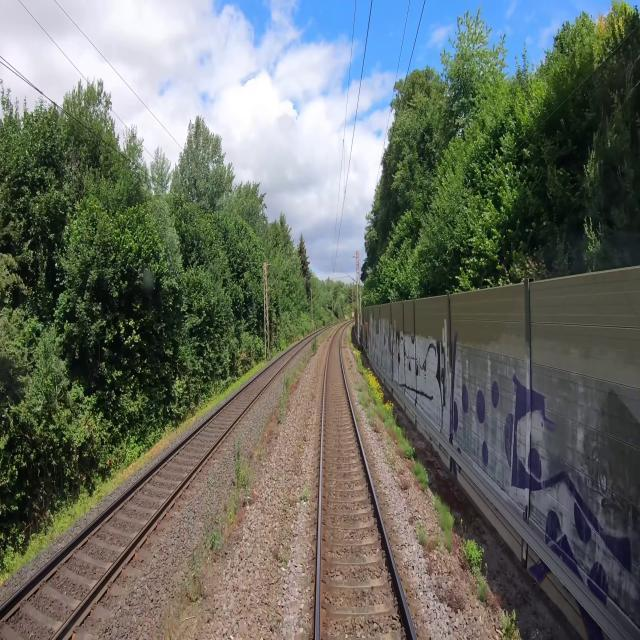Plant: (159, 337, 318, 639), (351, 373, 379, 432), (408, 516, 435, 574), (435, 581, 463, 615), (300, 487, 309, 501), (400, 478, 408, 489)
